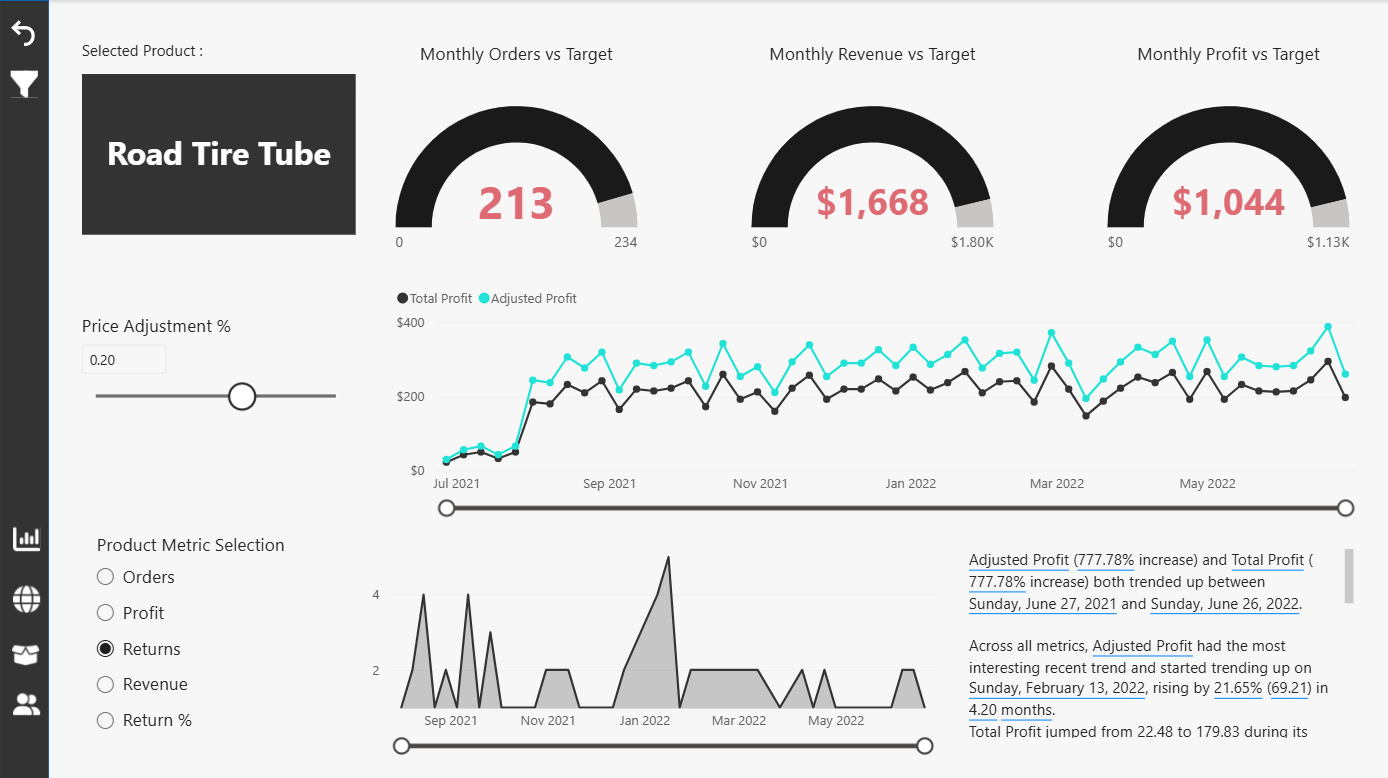

What the dashboard file says about the page in this screenshot:
{"tool":"powerbi","page":{"name":"Product Detail","canvas":[1280,720],"ordinal":2},"visuals":[{"type":"gauge","title":"Monthly Orders vs Target","fields":{"MaxValue":["Measures Table.Order Target"],"Y":["Measures Table.Total Orders"]},"box":[349.3,24,255,251],"z":0},{"type":"gauge","title":"Monthly Revenue vs Target","fields":{"MaxValue":["Measures Table.Revenue Target"],"Y":["Measures Table.Total Revenue"]},"box":[676.7,24,255,251],"z":1000},{"type":"gauge","title":"Monthly Profit vs Target","fields":{"MaxValue":["Measures Table.Profit Target"],"Y":["Measures Table.Total Profit"]},"box":[1004,24,255,251],"z":2000},{"type":"lineChart","title":"Profit Trending","fields":{"Category":["Calendar Lookup.Date Hierarchy.Start of year","Calendar Lookup.Date Hierarchy.Start of month","Calendar Lookup.Date Hierarchy.Start of week","Calendar Lookup.Date Hierarchy.Date"],"Y":["Measures Table.Total Profit","Measures Table.Adjusted Profit"]},"box":[349.7,246.2,931.7,244.4],"z":3000},{"type":"areaChart","title":"Returns Trending","fields":{"Category":["Calendar Lookup.Date Hierarchy.Start of year","Calendar Lookup.Date Hierarchy.Start of month","Calendar Lookup.Date Hierarchy.Start of week","Calendar Lookup.Date Hierarchy.Date"],"Y":["Measures Table.Total Returns"]},"box":[320,490,572.9,218.6],"z":4000},{"type":"card","fields":{"Values":["Min(Product Lookup.ProductName)"]},"box":[76.5,68.5,251.8,147.6],"z":5000},{"type":"textbox","box":[76.5,36.9,237,31],"z":6000},{"type":"shape","title":"Left Nav Background","box":[0,0,46.3,2132.3],"z":7000},{"type":"actionButton","box":[1.5,13.9,40.1,34],"z":8000},{"type":"group","id":"g1","title":"Nav Buttons","box":[0,464.8,49.4,216.2],"z":9000},{"type":"actionButton","box":[3.1,47.9,40.1,58.7],"z":10000},{"type":"slicer","fields":{"Values":["Price Adjustment %.Price Adjustment %"]},"box":[68.1,289.1,260.2,141.8],"z":11000},{"type":"slicer","fields":{"Values":["Product Metric Selection.Product Metric Selection"]},"box":[82.1,490.6,237.8,222.9],"z":12000},{"type":"textbox","box":[892.9,505.7,354.3,174.3],"z":12001},{"type":"actionButton","box":[1,520.2,49,63],"z":15000,"group":"g1"},{"type":"actionButton","box":[0,571.2,49,63],"z":16000,"group":"g1"},{"type":"actionButton","box":[1,616.8,49,63],"z":17000,"group":"g1"},{"type":"actionButton","box":[1,464.8,49,63],"z":18000,"group":"g1"}]}

Visuals, with their boxes on the page's 1280x720 design canvas (x1, y1, x2, y2). These are canvas units, not pixel positions in the 1388x778 screenshot, which may show the page scaled, cropped or inside an application window:
"Monthly Orders vs Target" gauge: {"left": 349, "top": 24, "right": 604, "bottom": 275}
"Monthly Revenue vs Target" gauge: {"left": 677, "top": 24, "right": 932, "bottom": 275}
"Monthly Profit vs Target" gauge: {"left": 1004, "top": 24, "right": 1259, "bottom": 275}
"Profit Trending" lineChart: {"left": 350, "top": 246, "right": 1281, "bottom": 491}
"Returns Trending" areaChart: {"left": 320, "top": 490, "right": 893, "bottom": 709}
card - Min(Product Lookup.ProductName): {"left": 76, "top": 68, "right": 328, "bottom": 216}
textbox: {"left": 76, "top": 37, "right": 314, "bottom": 68}
"Left Nav Background" shape: {"left": 0, "top": 0, "right": 46, "bottom": 2132}
actionButton: {"left": 2, "top": 14, "right": 42, "bottom": 48}
"Nav Buttons" group: {"left": 0, "top": 465, "right": 49, "bottom": 681}
actionButton: {"left": 3, "top": 48, "right": 43, "bottom": 107}
slicer - Price Adjustment %.Price Adjustment %: {"left": 68, "top": 289, "right": 328, "bottom": 431}
slicer - Product Metric Selection.Product Metric Selection: {"left": 82, "top": 491, "right": 320, "bottom": 714}
textbox: {"left": 893, "top": 506, "right": 1247, "bottom": 680}
actionButton: {"left": 1, "top": 520, "right": 50, "bottom": 583}
actionButton: {"left": 0, "top": 571, "right": 49, "bottom": 634}
actionButton: {"left": 1, "top": 617, "right": 50, "bottom": 680}
actionButton: {"left": 1, "top": 465, "right": 50, "bottom": 528}
